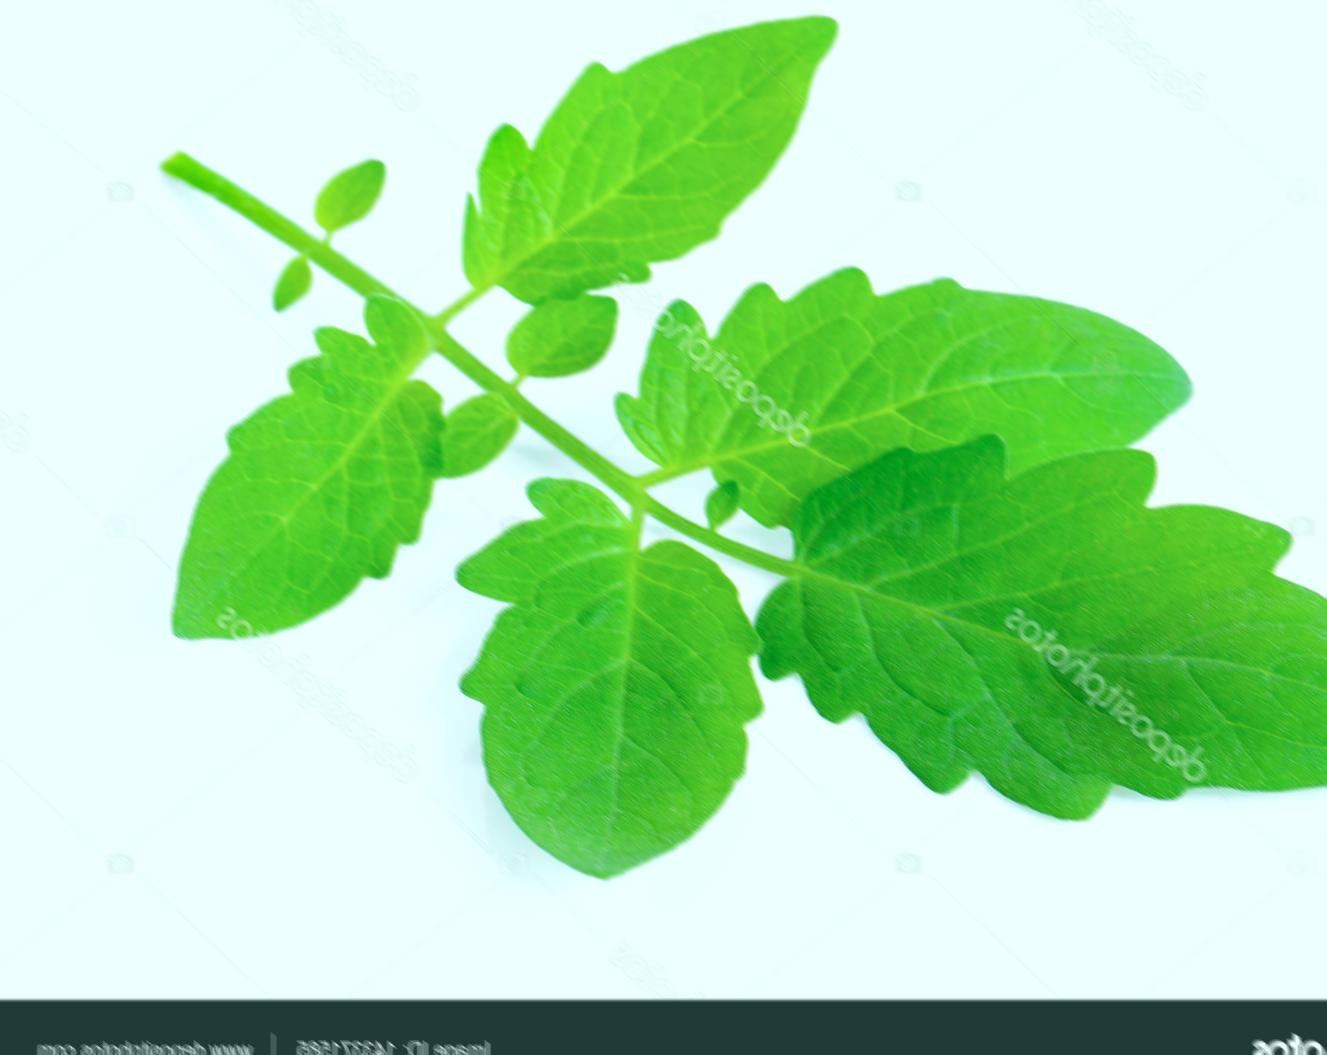Tomato leaf: (762, 441, 1327, 822), (606, 250, 1197, 558), (448, 469, 780, 903), (433, 0, 867, 328), (139, 314, 457, 667)
